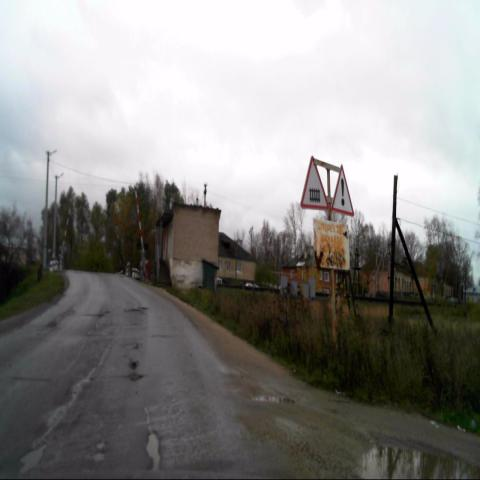1_1: (300, 155, 330, 211)
1_33: (330, 163, 354, 218)
